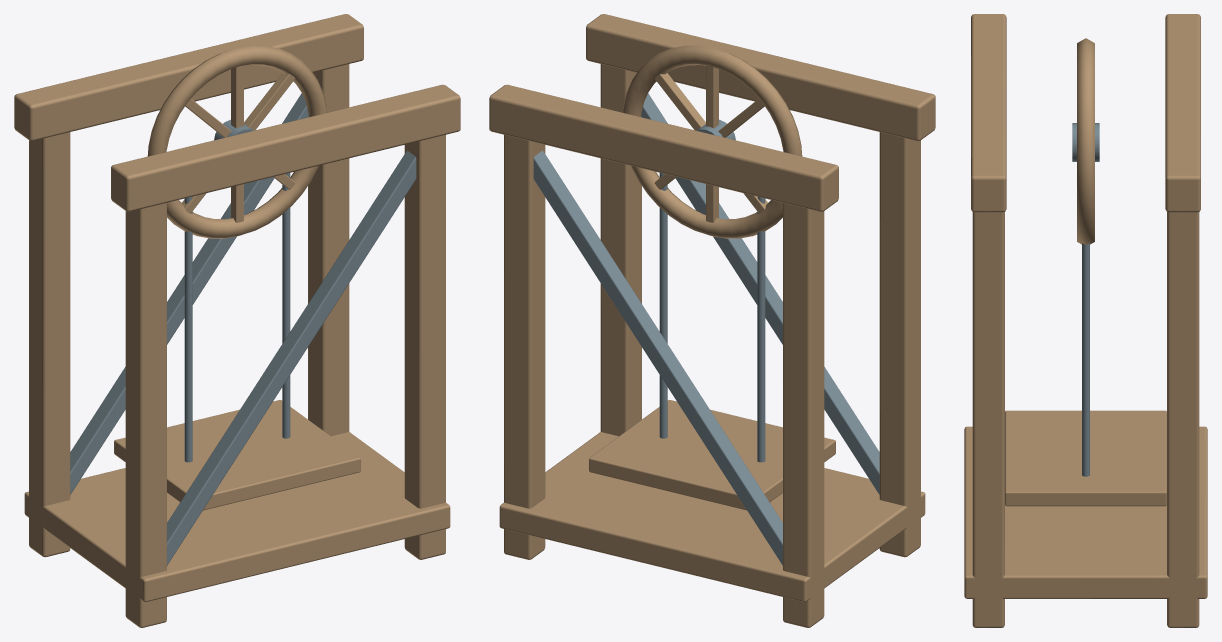
The model's file is ore_lift.glb.
The picture shows the model from 3 angles, left to right: view 1: azimuth 30°, elevation 25°; view 2: azimuth 150°, elevation 25°; view 3: azimuth 270°, elevation 25°; orthographic projection.
Visible parts, largest first — view 1: ore_lift; view 2: ore_lift; view 3: ore_lift.
Part boxes in pixels (x1,y1,x2,y2): ore_lift: (14, 14, 460, 627); ore_lift: (489, 14, 935, 627); ore_lift: (964, 14, 1207, 627).
Size of the model in its own units: 2.4 by 3.44 by 1.5.
